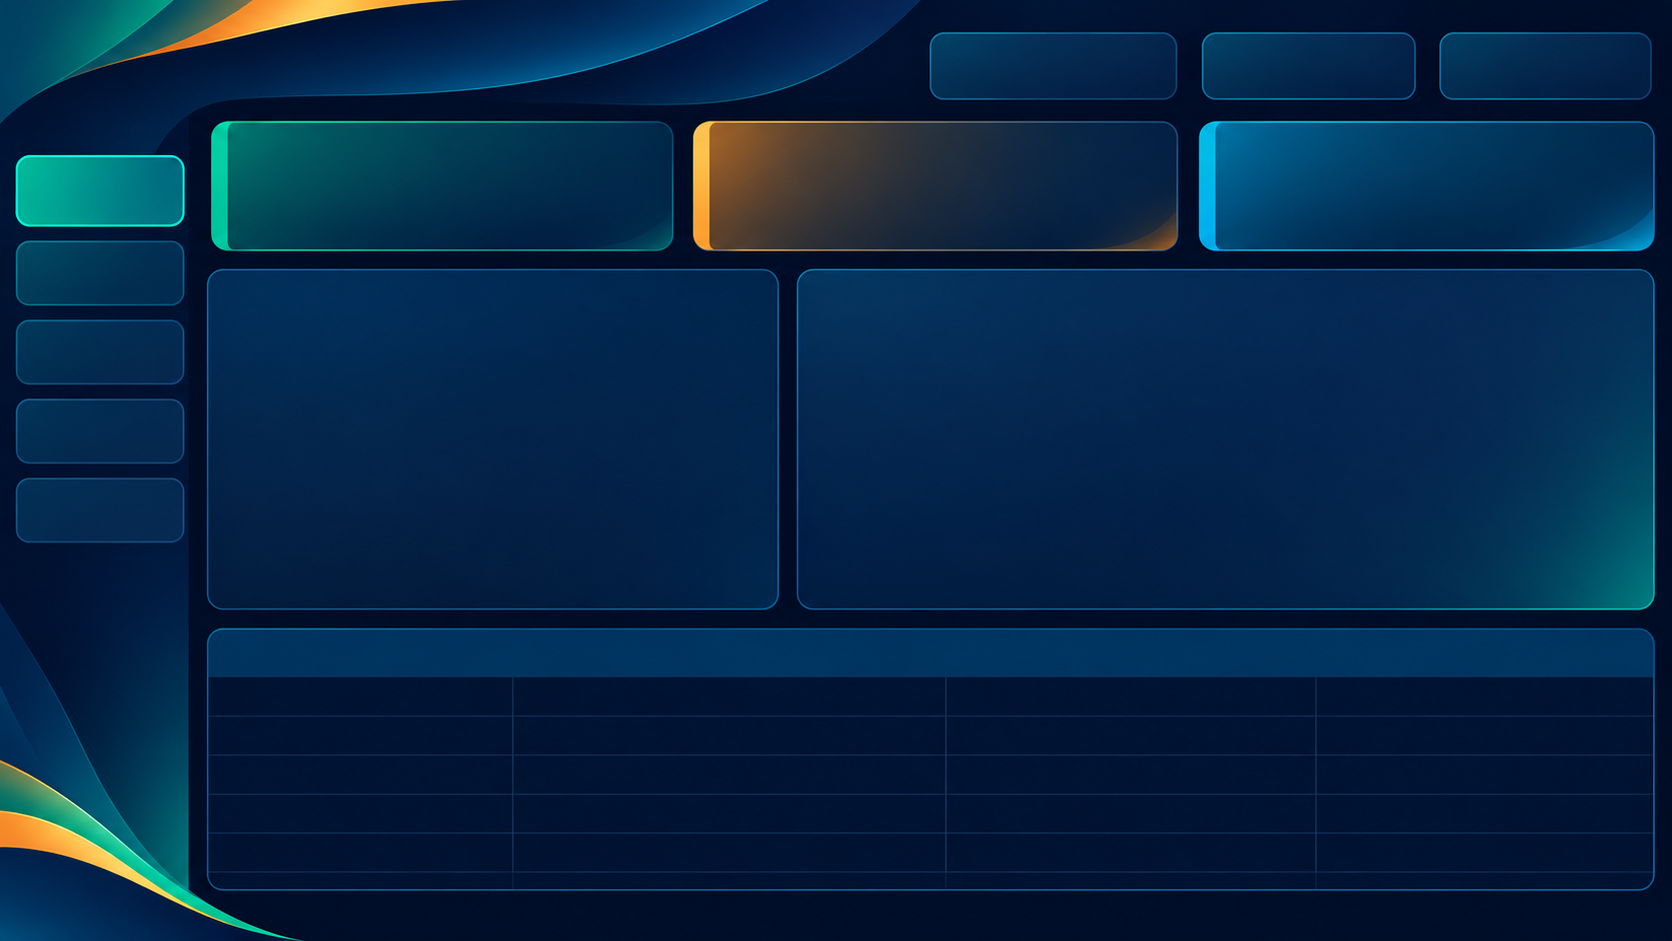

This screenshot's page, from the dashboard's own definition file:
{"tool":"powerbi","page":{"name":"Início","canvas":[1920,1080],"ordinal":0},"visuals":[{"type":"image","box":[0,0,1920,1080.2],"z":0},{"type":"donutChart","title":"Valor Total de Dívidas","fields":{"Category":["fDividas.Nome da dívida"],"Y":["Sum(fDividas.Valor contratado (R$))"]},"box":[943.3,365,936.7,363.3],"z":1000},{"type":"clusteredBarChart","title":"Evolução Mensal","fields":{"Category":["dCalenario.Mes"],"Y":["Medida.Soma das Despesas","Medida.Soma das Receitas"]},"box":[273.3,365,613.3,363.3],"z":2000},{"type":"treemap","title":"Soma de Cada Tipo de Investimento","fields":{"Group":["fInvestimentos.Nome do investimento"],"Values":["Sum(fInvestimentos.Valor atual (R$))"]},"box":[261.7,763.3,1635,288.3],"z":3000},{"type":"cardVisual","title":"Saldo Total em Conta","fields":{"Data":["Medida.Salto Total em Conta"]},"box":[273.3,180,490,151.7],"z":4000},{"type":"cardVisual","title":"Soma Total das Receitas","fields":{"Data":["Medida.Soma Total das Receitas"]},"box":[828.3,180,488.3,151.7],"z":5000},{"type":"cardVisual","title":"Soma Total das Despesas","fields":{"Data":["Medida.Saldo Geral Devedor"]},"box":[1398.3,180,468.3,151.7],"z":6000},{"type":"slicer","fields":{"Values":["dCalenario.Ano"]},"box":[51.7,271.7,161.7,80],"z":7000},{"type":"slicer","fields":{"Values":["dCalenario.Mes"]},"box":[51.4,397.1,161.7,80],"z":8000},{"type":"slicer","fields":{"Values":["fInvestimentos.Nome do investimento"]},"box":[51.4,524.3,161.7,80],"z":9000},{"type":"slicer","fields":{"Values":["fDividas.Nome da dívida"]},"box":[51.4,648.6,161.7,80],"z":10000},{"type":"textbox","box":[51.4,185.7,161.4,37.1],"z":11000},{"type":"shape","box":[40,172,181.4,62.9],"z":12000},{"type":"textbox","box":[1317.1,55.7,254.3,54.3],"z":13000},{"type":"textbox","box":[1625.7,55.7,254.3,54.3],"z":14000},{"type":"shape","box":[1295,0,300,88.6],"z":15000},{"type":"shape","box":[1603.3,0,300,88.6],"z":16000},{"type":"textbox","box":[53.3,46.7,811.7,71.7],"z":17000}]}

Visuals, with their boxes in screenshot pixels (x1, y1, x2, y2), scaled from the page's 1920x1080 canvas onto the 1672x941 screenshot:
image: (x1=0, y1=0, x2=1671, y2=940)
"Valor Total de Dívidas" donutChart: (x1=821, y1=318, x2=1637, y2=635)
"Evolução Mensal" clusteredBarChart: (x1=238, y1=318, x2=772, y2=635)
"Soma de Cada Tipo de Investimento" treemap: (x1=228, y1=665, x2=1652, y2=916)
"Saldo Total em Conta" cardVisual: (x1=238, y1=157, x2=665, y2=289)
"Soma Total das Receitas" cardVisual: (x1=721, y1=157, x2=1147, y2=289)
"Soma Total das Despesas" cardVisual: (x1=1218, y1=157, x2=1625, y2=289)
slicer - dCalenario.Ano: (x1=45, y1=237, x2=186, y2=306)
slicer - dCalenario.Mes: (x1=45, y1=346, x2=186, y2=416)
slicer - fInvestimentos.Nome do investimento: (x1=45, y1=457, x2=186, y2=527)
slicer - fDividas.Nome da dívida: (x1=45, y1=565, x2=186, y2=635)
textbox: (x1=45, y1=162, x2=185, y2=194)
shape: (x1=35, y1=150, x2=193, y2=205)
textbox: (x1=1147, y1=49, x2=1368, y2=96)
textbox: (x1=1416, y1=49, x2=1637, y2=96)
shape: (x1=1128, y1=0, x2=1389, y2=77)
shape: (x1=1396, y1=0, x2=1657, y2=77)
textbox: (x1=46, y1=41, x2=753, y2=103)
